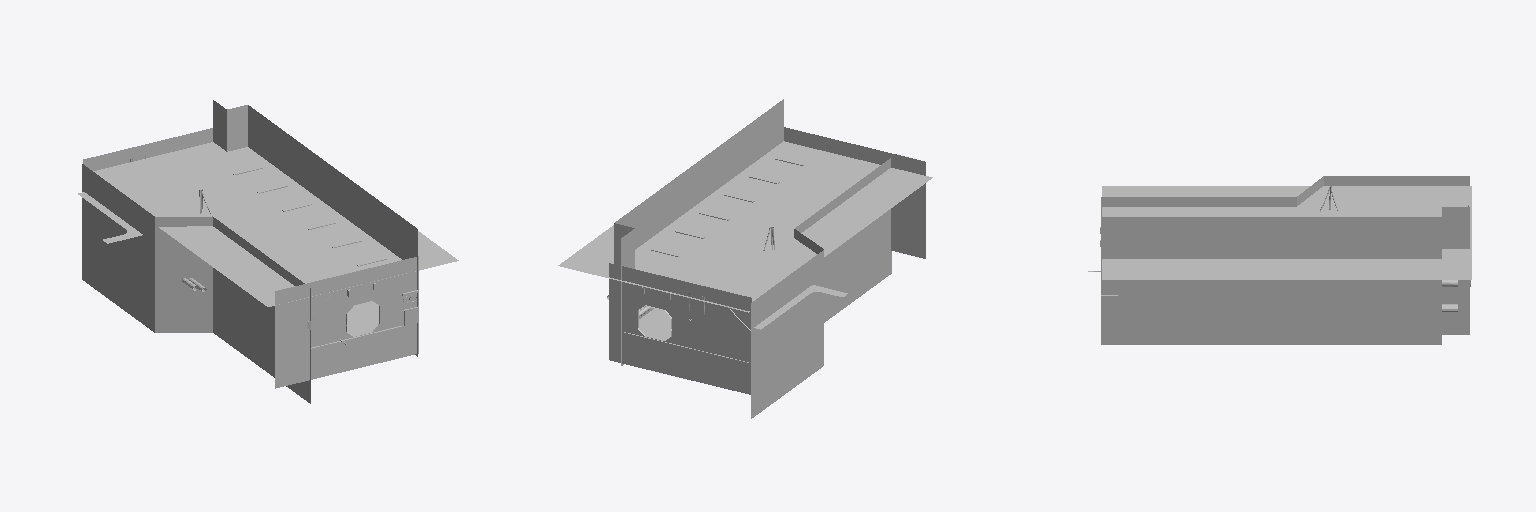
The model's file is cryoRoom2.obj.
3 renders of one model, left to right at view 1: azimuth 30°, elevation 25°; view 2: azimuth 150°, elevation 25°; view 3: azimuth 270°, elevation 25°, orthographic.
Parts seen in each view (by area): view 1: Roof_RoofMesh, SideWall1_SideWall1Mesh, BackWall_BackWallMesh, SideWall0_SideWall0Mesh, FrontWall_FrontWallMesh, Floor_FloorMesh, Basket_BasketMesh; view 2: Roof_RoofMesh, SideWall1_SideWall1Mesh, FrontWall_FrontWallMesh, SideWall0_SideWall0Mesh, BackWall_BackWallMesh, Floor_FloorMesh, Basket_BasketMesh; view 3: SideWall0_SideWall0Mesh, Roof_RoofMesh, SideWall1_SideWall1Mesh.
Part boxes in pixels (x1,y1,x2,y2): Roof_RoofMesh: (93, 142, 458, 306); SideWall1_SideWall1Mesh: (82, 164, 310, 403); BackWall_BackWallMesh: (275, 256, 418, 388); SideWall0_SideWall0Mesh: (213, 100, 417, 356); FrontWall_FrontWallMesh: (83, 128, 212, 170); Floor_FloorMesh: (311, 302, 403, 348); Basket_BasketMesh: (78, 192, 142, 243); Roof_RoofMesh: (558, 141, 932, 312); SideWall1_SideWall1Mesh: (751, 158, 891, 418); FrontWall_FrontWallMesh: (609, 263, 751, 394); SideWall0_SideWall0Mesh: (614, 99, 783, 365); BackWall_BackWallMesh: (784, 127, 925, 258); Floor_FloorMesh: (624, 308, 748, 362); Basket_BasketMesh: (754, 285, 847, 329); SideWall0_SideWall0Mesh: (1101, 207, 1469, 344); Roof_RoofMesh: (1102, 186, 1471, 279); SideWall1_SideWall1Mesh: (1101, 176, 1469, 216).
Size of the model in its own units: 30.91 by 19.19 by 44.79.